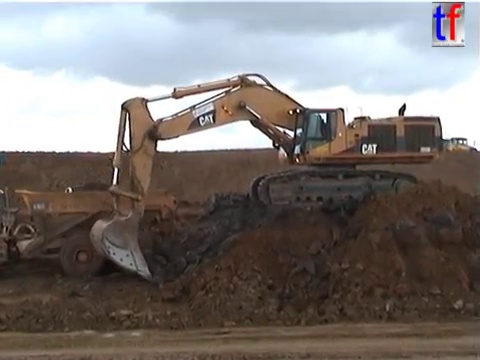excavator: (87, 70, 445, 282)
truck: (1, 185, 179, 280), (428, 136, 478, 160)
worker: (61, 181, 76, 204)
